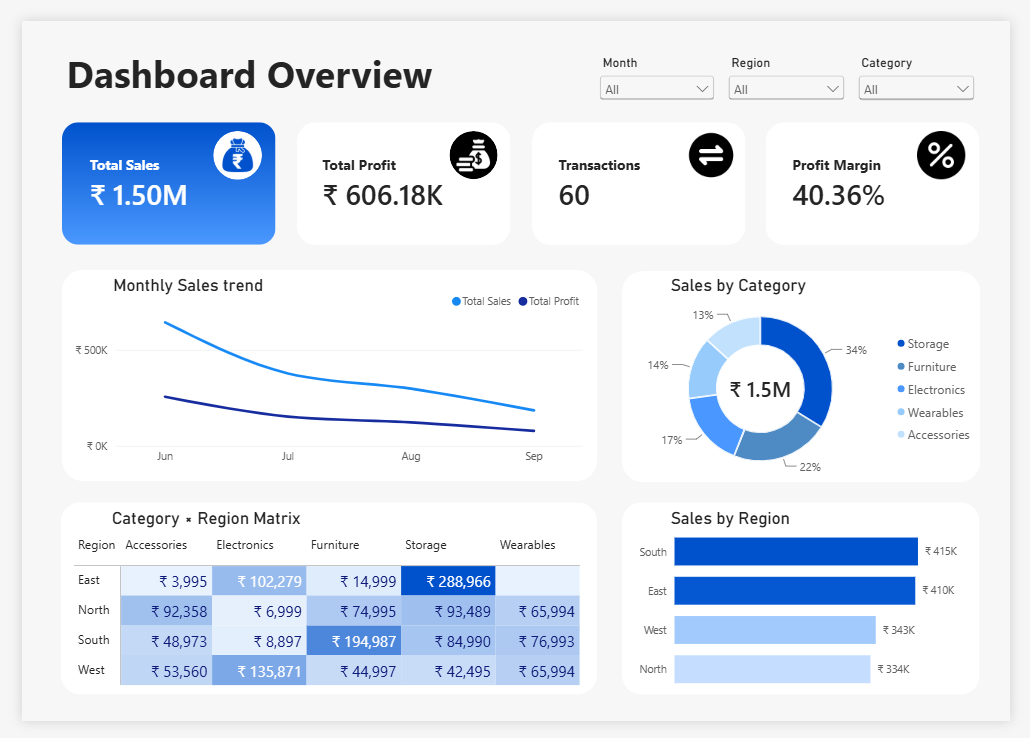

Layout of this report page (visuals, bound fields, positions):
{"tool":"powerbi","page":{"name":"Dashboard","canvas":[1130,800],"ordinal":1},"visuals":[{"type":"shape","box":[217.9,125.5,55.7,55.7],"z":0,"group":"g1"},{"type":"shape","box":[488.3,125.5,55,55],"z":0,"group":"g2"},{"type":"shape","box":[686.3,550.1,408.7,220],"z":1000},{"type":"shape","box":[44.3,550.1,613.1,219.7],"z":2000},{"type":"shape","box":[313.8,115,244,140.5],"z":3000},{"type":"shape","box":[582.8,115,244,140.5],"z":4000},{"type":"shape","box":[850.7,115,244,140.5],"z":5000},{"type":"shape","box":[45.9,284,611.9,241.7],"z":6000},{"type":"shape","box":[685.2,285.2,409.5,241.7],"z":7000},{"type":"textbox","box":[30.9,30,457.1,59.5],"z":8000},{"type":"image","box":[45.9,115,244,140],"z":9000},{"type":"clusteredBarChart","fields":{"Category":["sales_fact.Region"],"Y":["Sum(sales_fact.Sales Amount)"]},"box":[685.2,550.3,411.4,242.1],"z":10000},{"type":"lineChart","fields":{"Category":["sales_fact.Month"],"Y":["Sum(sales_fact.Sales Amount)"],"Y2":["Sum(sales_fact.Profit)"]},"box":[44.6,291,612.9,234.6],"z":11000},{"type":"donutChart","fields":{"Category":["products.category"],"Y":["Sum(sales_fact.Sales Amount)"]},"box":[672.7,291.2,436,258.9],"z":12000},{"type":"pivotTable","title":" Category x Region Performence Matrix","fields":{"Columns":["products.category"],"Rows":["sales_fact.Region"],"Values":["Sum(sales_fact.Sales Amount)"]},"box":[42.6,568,611.4,206.1],"z":13000},{"type":"cardVisual","fields":{"Data":["sales_fact.Total Sales Amount"]},"box":[60.9,125.5,216.4,120],"z":15000},{"type":"cardVisual","fields":{"Data":["sales_fact.Total Profit"]},"box":[326.5,125.5,216.4,120],"z":16000},{"type":"cardVisual","fields":{"Data":["sales_fact.Total Transactions"]},"box":[597.5,125.5,216.4,120],"z":17000},{"type":"cardVisual","fields":{"Data":["sales_fact.Profit Margin"]},"box":[864.8,125.5,216.4,120],"z":18000},{"type":"slicer","fields":{"Values":["sales_fact.Month"]},"box":[656,38,140,50.9],"z":19000},{"type":"slicer","fields":{"Values":["sales_fact.Region"]},"box":[803,38,141.9,50.9],"z":20000},{"type":"slicer","fields":{"Values":["products.category"]},"box":[951,38,141.9,56.4],"z":21000},{"type":"textbox","box":[104.6,291,245.5,30.9],"z":22000},{"type":"textbox","box":[741.1,557,245.5,30.9],"z":23000},{"type":"textbox","box":[741.1,291,245.5,30.9],"z":25000},{"type":"textbox","box":[103.2,557,245.5,29.1],"z":26000},{"type":"image","box":[759.3,125.5,55,55],"z":27000},{"type":"group","id":"g1","title":"Group 1","box":[217.9,125.5,55,55],"z":28000},{"type":"image","box":[224.7,133.6,41.2,38.5],"z":28000,"group":"g1"},{"type":"image","box":[495,133.6,40.7,38.3],"z":28000,"group":"g2"},{"type":"group","id":"g2","title":"Group 2","box":[488.3,125.5,54.6,54.6],"z":29000},{"type":"image","box":[1023.1,125,55,55],"z":30000}]}

Visuals, with their boxes in screenshot pixels (x1, y1, x2, y2), scaled from the page's 1130x800 canvas onto the 1030x738 screenshot:
shape: x1=199, y1=116, x2=249, y2=167
shape: x1=445, y1=116, x2=495, y2=167
shape: x1=626, y1=507, x2=998, y2=710
shape: x1=40, y1=507, x2=599, y2=710
shape: x1=286, y1=106, x2=508, y2=236
shape: x1=531, y1=106, x2=754, y2=236
shape: x1=775, y1=106, x2=998, y2=236
shape: x1=42, y1=262, x2=600, y2=485
shape: x1=625, y1=263, x2=998, y2=486
textbox: x1=28, y1=28, x2=445, y2=83
image: x1=42, y1=106, x2=264, y2=235
clusteredBarChart - sales_fact.Region x Sum(sales_fact.Sales Amount): x1=625, y1=508, x2=1000, y2=731
lineChart - sales_fact.Month x Sum(sales_fact.Sales Amount): x1=41, y1=268, x2=599, y2=485
donutChart - products.category x Sum(sales_fact.Sales Amount): x1=613, y1=269, x2=1011, y2=507
" Category x Region Performence Matrix" pivotTable: x1=39, y1=524, x2=596, y2=714
cardVisual - sales_fact.Total Sales Amount: x1=56, y1=116, x2=253, y2=226
cardVisual - sales_fact.Total Profit: x1=298, y1=116, x2=495, y2=226
cardVisual - sales_fact.Total Transactions: x1=545, y1=116, x2=742, y2=226
cardVisual - sales_fact.Profit Margin: x1=788, y1=116, x2=986, y2=226
slicer - sales_fact.Month: x1=598, y1=35, x2=726, y2=82
slicer - sales_fact.Region: x1=732, y1=35, x2=861, y2=82
slicer - products.category: x1=867, y1=35, x2=996, y2=87
textbox: x1=95, y1=268, x2=319, y2=297
textbox: x1=676, y1=514, x2=899, y2=542
textbox: x1=676, y1=268, x2=899, y2=297
textbox: x1=94, y1=514, x2=318, y2=541
image: x1=692, y1=116, x2=742, y2=167
"Group 1" group: x1=199, y1=116, x2=249, y2=167
image: x1=205, y1=123, x2=242, y2=159
image: x1=451, y1=123, x2=488, y2=159
"Group 2" group: x1=445, y1=116, x2=495, y2=166
image: x1=933, y1=115, x2=983, y2=166
